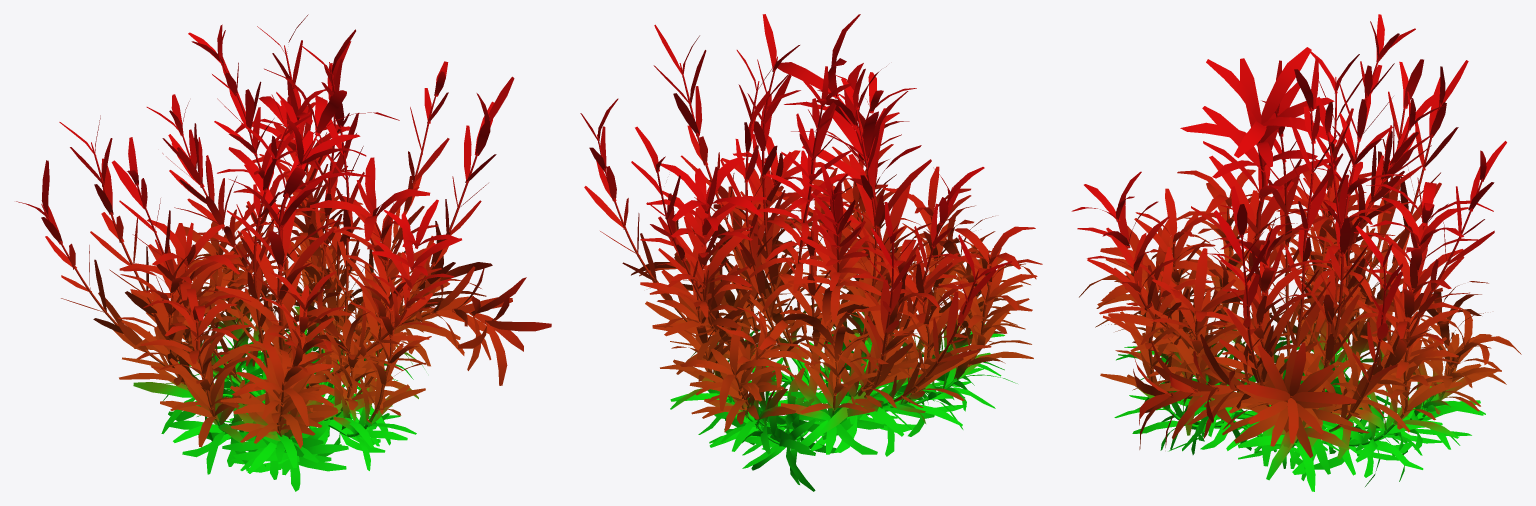
Rendered from Var6_LOD1.fbx.
The picture shows the model from 3 angles, left to right: view 1: azimuth 30°, elevation 25°; view 2: azimuth 150°, elevation 25°; view 3: azimuth 270°, elevation 25°; orthographic projection. The views are drawn at different scales.
Parts seen in each view (by area): view 1: _fexh_Var6_LOD1; view 2: _fexh_Var6_LOD1; view 3: _fexh_Var6_LOD1.
Part boxes in pixels (box(x1,y1,x2,y2)): _fexh_Var6_LOD1: box(16, 14, 551, 491); _fexh_Var6_LOD1: box(580, 14, 1042, 491); _fexh_Var6_LOD1: box(1071, 14, 1521, 491).
Size of the model in its own units: 32.96 by 31.01 by 27.94.
